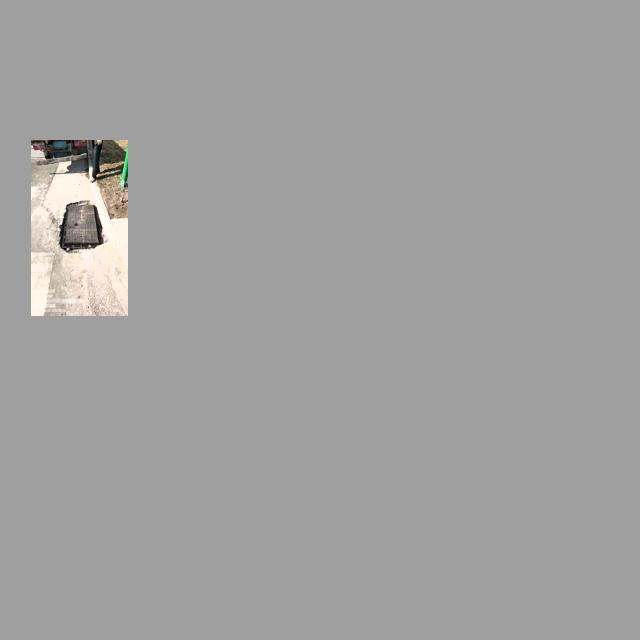circle: (59, 202, 104, 251)
